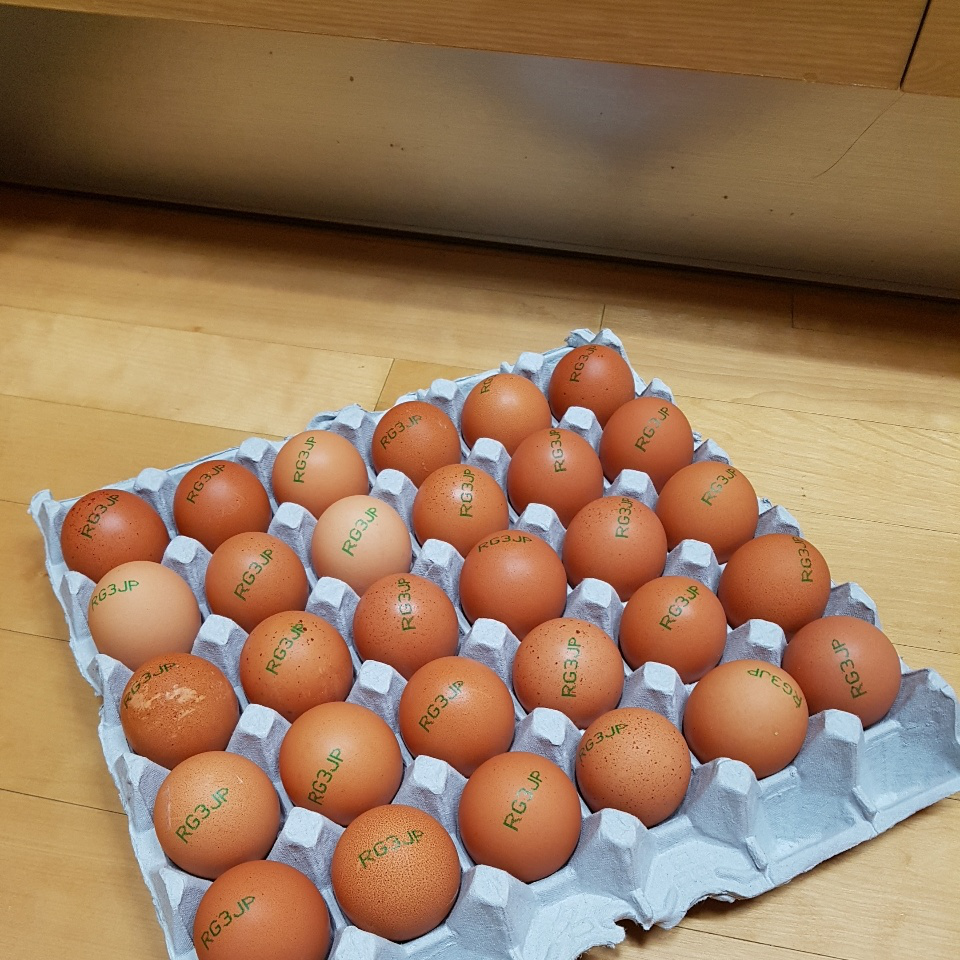egg: (61, 345, 905, 960)
